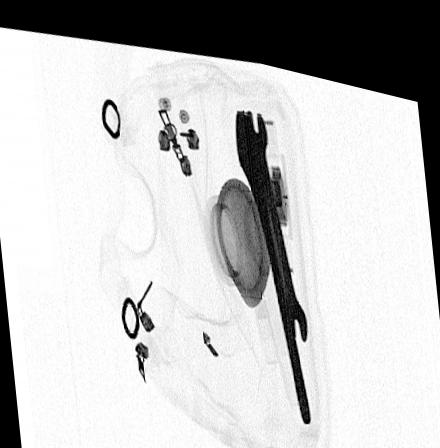Wrench: (237, 100, 314, 407), (241, 98, 309, 326)
